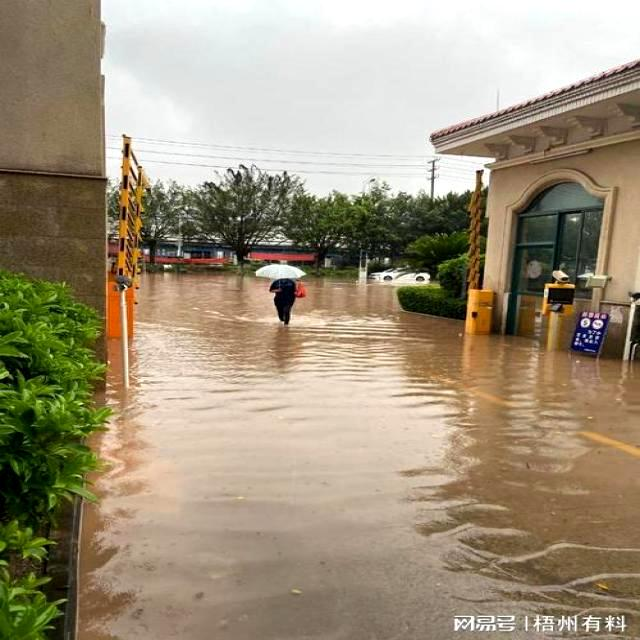civilian: (266, 270, 304, 327)
